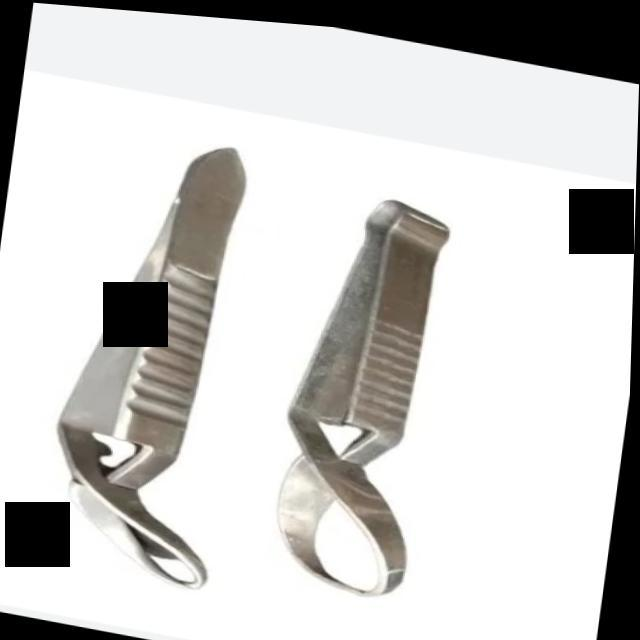Doyen Cross Action Towel Clamp: (258, 168, 496, 616)
